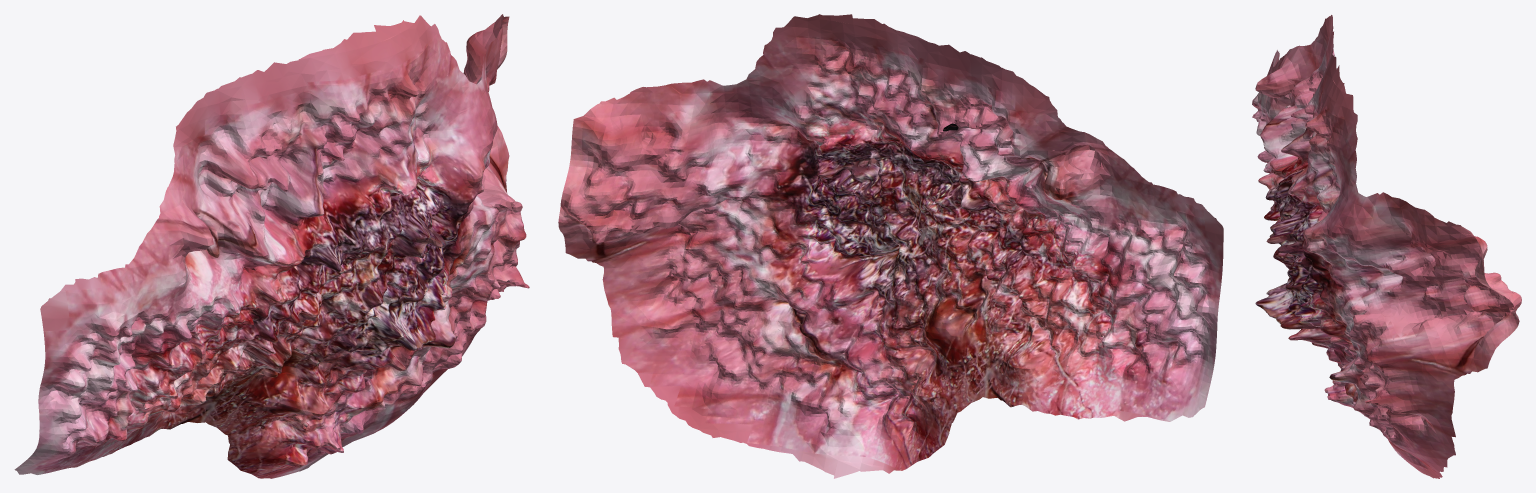
Rendered from Woun11.obj.
3 views of the same model, side by side, from view 1: azimuth 30°, elevation 25°; view 2: azimuth 150°, elevation 25°; view 3: azimuth 270°, elevation 25° (orthographic). The views are drawn at different scales.
Bounding box in the file's own units: 3.08 × 2.32 × 1.43.
1 material, 1 textured.
